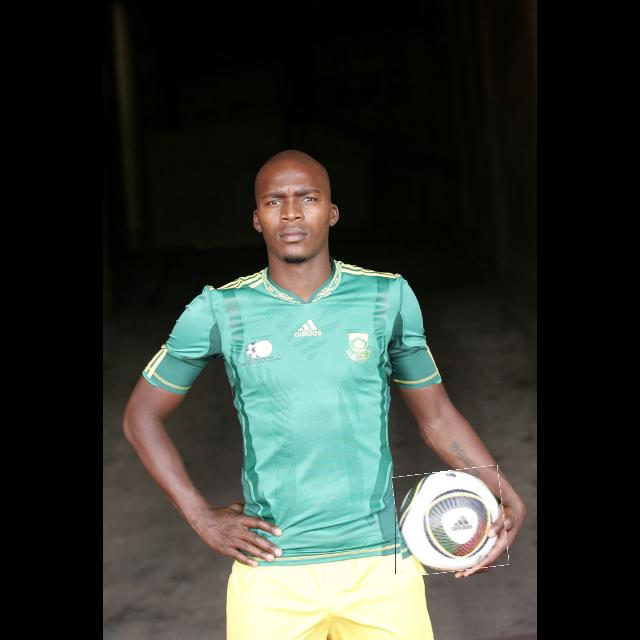Football: (395, 468, 507, 574)
